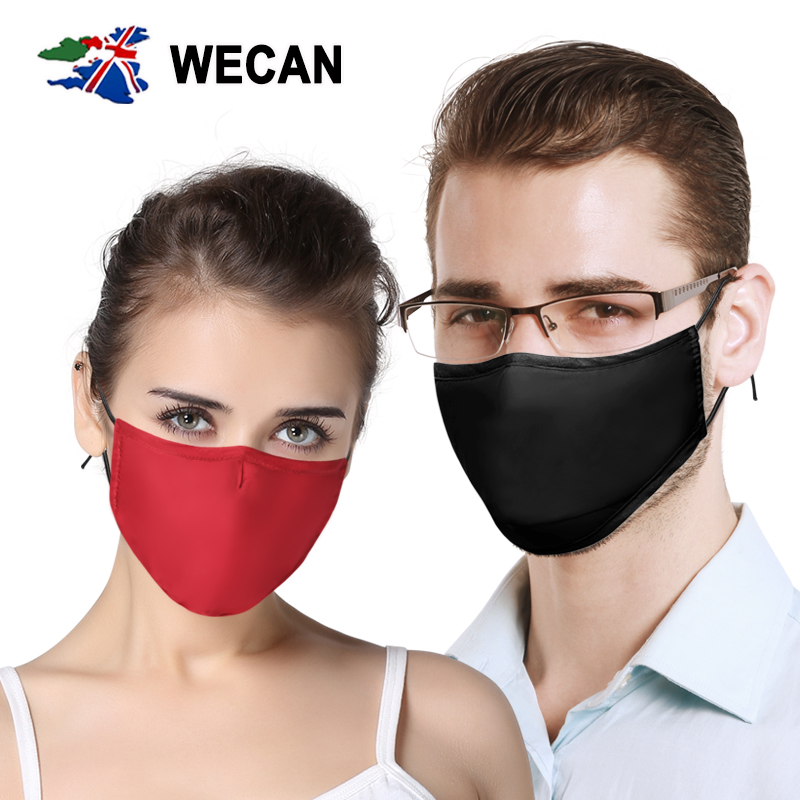mask: (435, 355, 705, 558), (104, 430, 347, 617)
